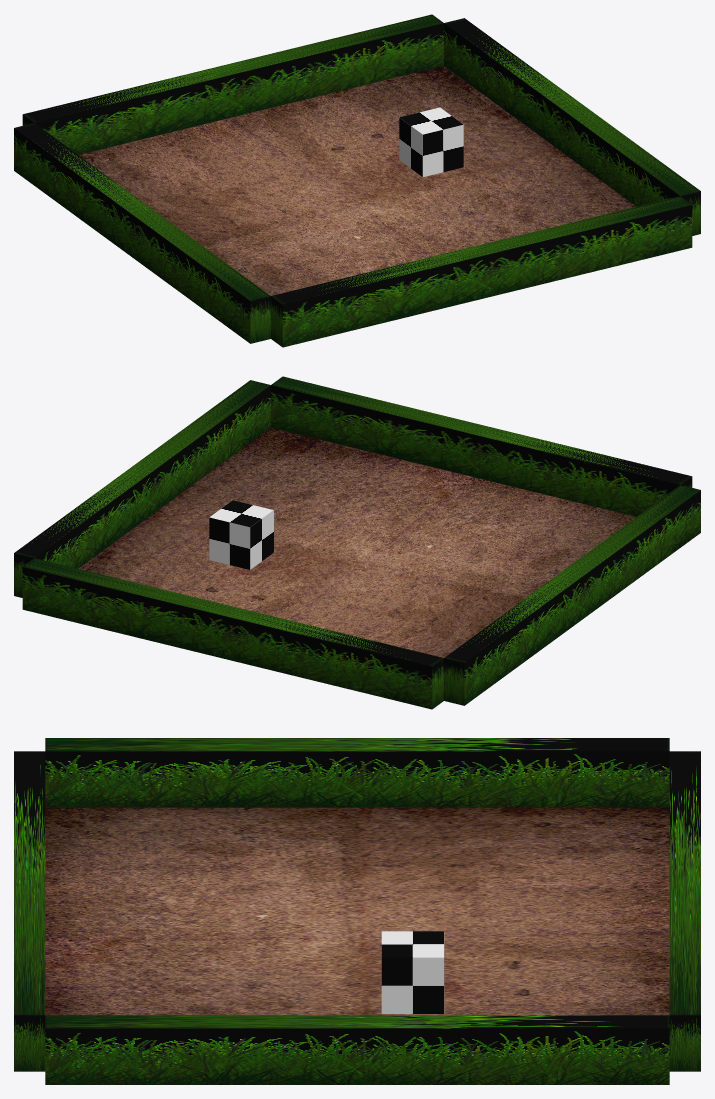
Rendered from space.FBX.
3 views of the same model, one above another, from view 1: azimuth 30°, elevation 25°; view 2: azimuth 150°, elevation 25°; view 3: azimuth 270°, elevation 25° (orthographic). The views are drawn at different scales.
Visible parts, largest first — view 1: floor, wall004, wall003, wall001, wall002, Box001; view 2: floor, wall003, wall004, wall001, wall002, Box001; view 3: floor, wall001, wall002, wall003, wall004, Box001.
Boxes of the visible parts, x1=… form: floor: x1=78, y1=66, x2=636, y2=295; wall004: x1=271, y1=196, x2=692, y2=347; wall003: x1=22, y1=14, x2=443, y2=154; wall001: x1=14, y1=123, x2=270, y2=343; wall002: x1=444, y1=18, x2=700, y2=235; Box001: x1=399, y1=107, x2=463, y2=176; floor: x1=78, y1=428, x2=636, y2=657; wall003: x1=22, y1=558, x2=443, y2=709; wall004: x1=271, y1=376, x2=692, y2=516; wall001: x1=444, y1=485, x2=700, y2=705; wall002: x1=14, y1=380, x2=270, y2=597; Box001: x1=209, y1=500, x2=273, y2=569; floor: x1=45, y1=807, x2=669, y2=1015; wall001: x1=45, y1=738, x2=669, y2=807; wall002: x1=45, y1=1015, x2=669, y2=1084; wall003: x1=669, y1=751, x2=700, y2=1071; wall004: x1=14, y1=751, x2=45, y2=1071; Box001: x1=381, y1=931, x2=444, y2=1013.
Size of what is drawn, in the model's own units: 22 by 2 by 22.
3 materials, 3 textured.
